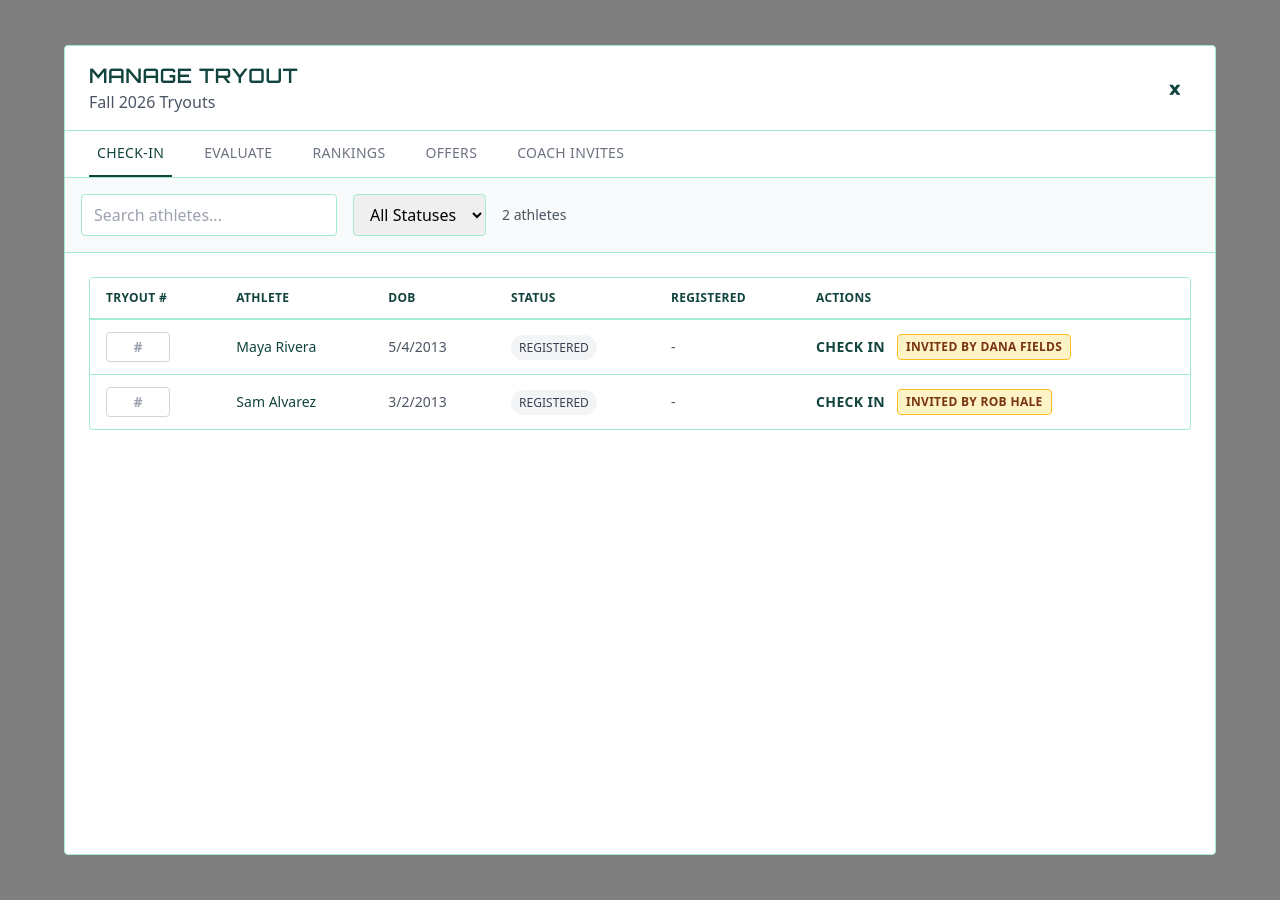
the director table › lists every coach claim with the coach, the team and what happened next
The image size is (1280, 900).
expect the text "Maya Rivera" is shown: met, box top-left (236, 337), bottom-right (316, 356)
Click the button "Coach invites": (571, 154) top-left (509, 131), bottom-right (632, 177)
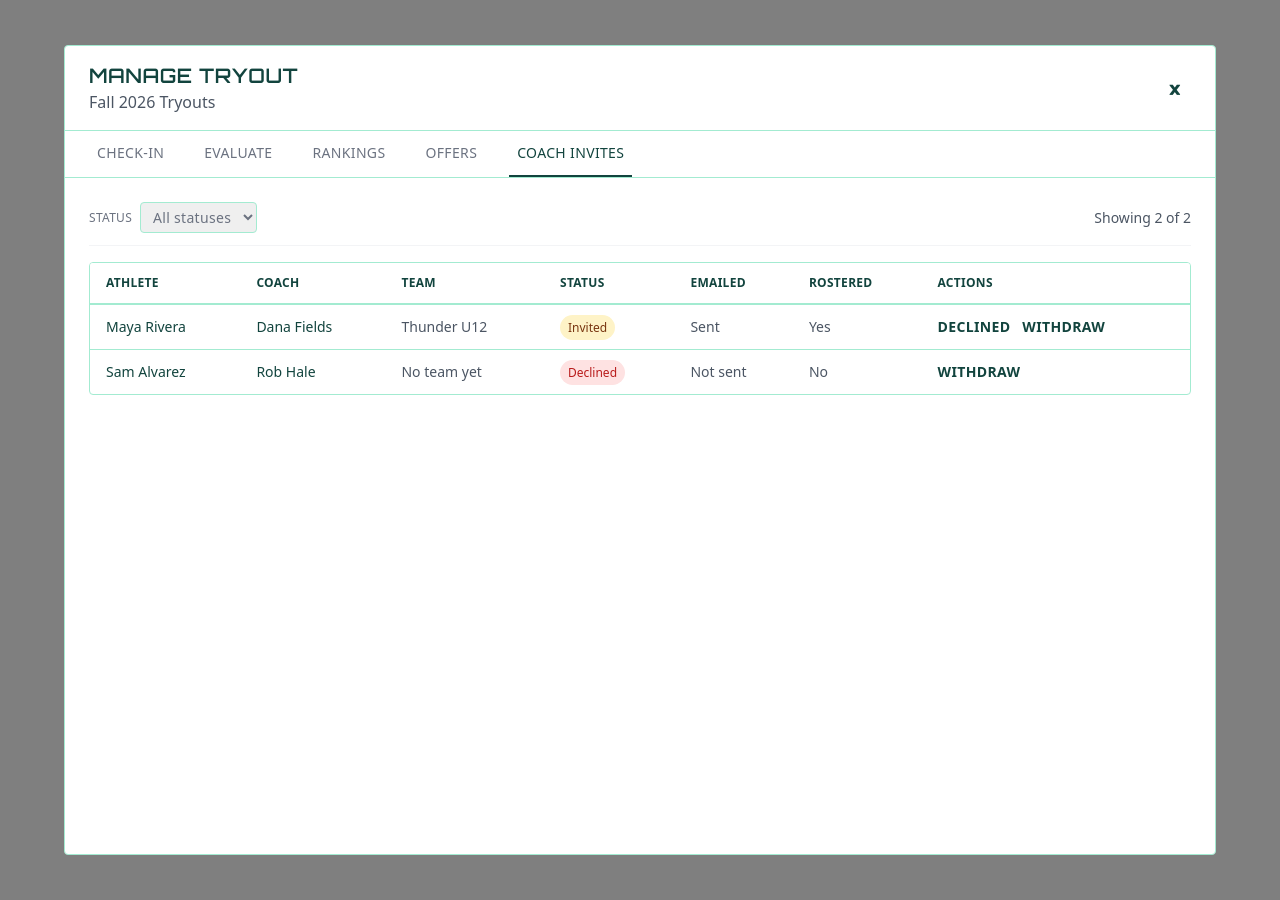
expect the dropdown named "Filter coach invites by status" is shown: met, box top-left (140, 202), bottom-right (257, 233)
expect the text "Thunder U12" is shown: met, box top-left (402, 317), bottom-right (487, 336)
expect the text "Sent" is shown: met, box top-left (690, 317), bottom-right (720, 336)
